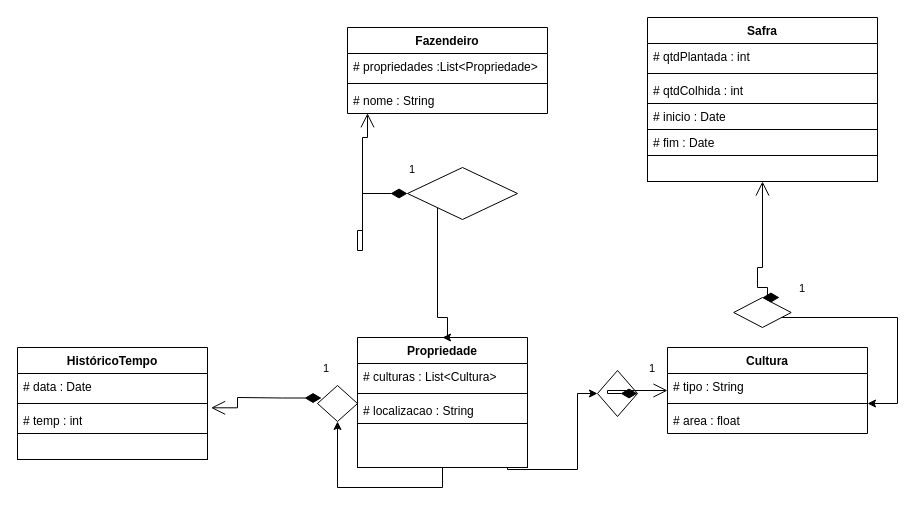
The diagram is 923 pixels wide and 513 high, and some of its shapes have lost their labels. Here are the shapes that lost their labels. From the top down, the centre of each, then its label:
At (762,168): "# producaoi : int".
At (112,446): "# umidade : int".
At (442,445): "# historicoTempo :List <HistoricoTempo>".
